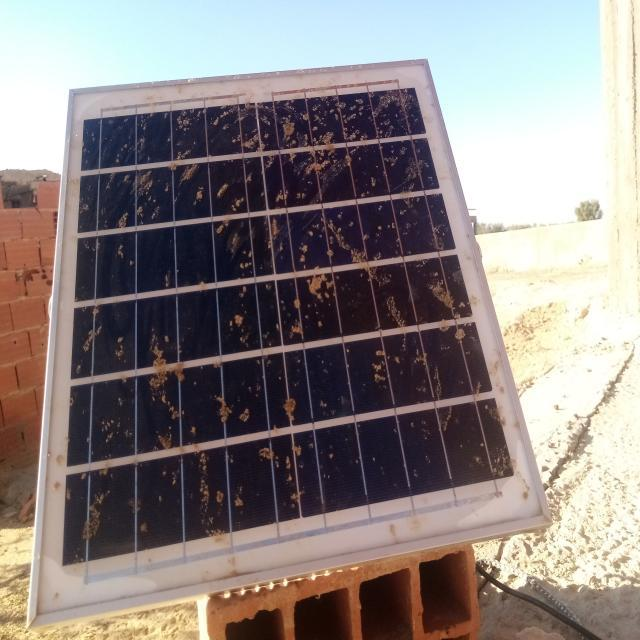faulty: (28, 61, 551, 621)
